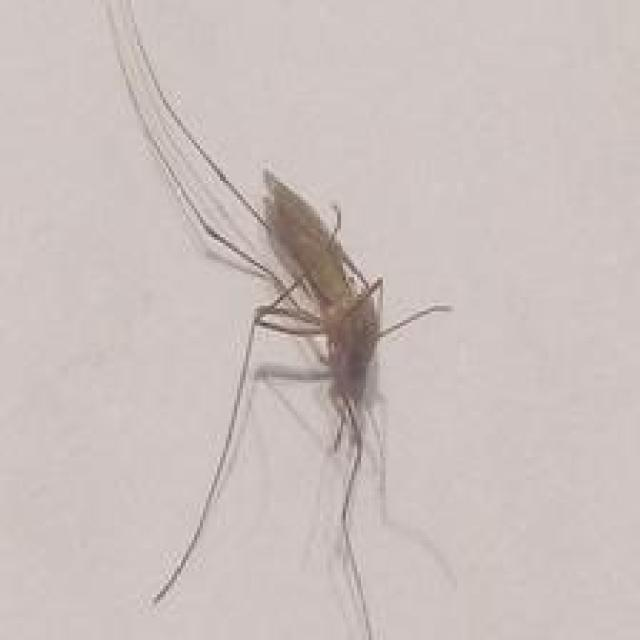Culex: (87, 0, 459, 640)
